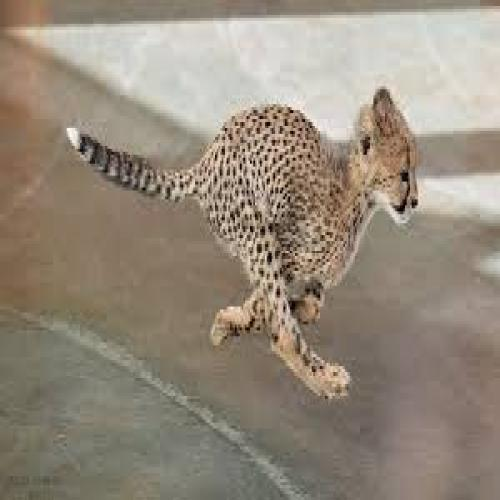cheetah-endangered: (63, 83, 422, 406)
